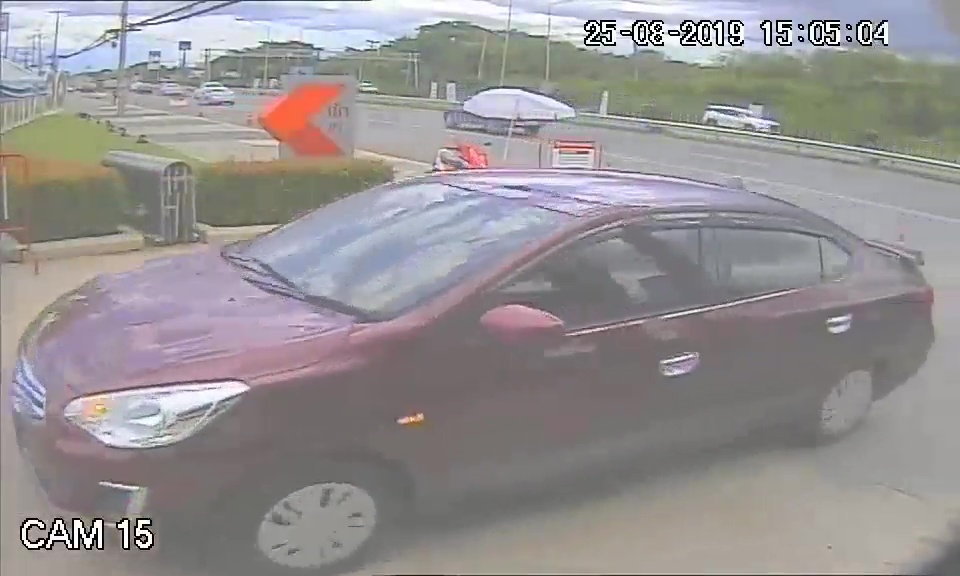sedan: (15, 164, 936, 535)
